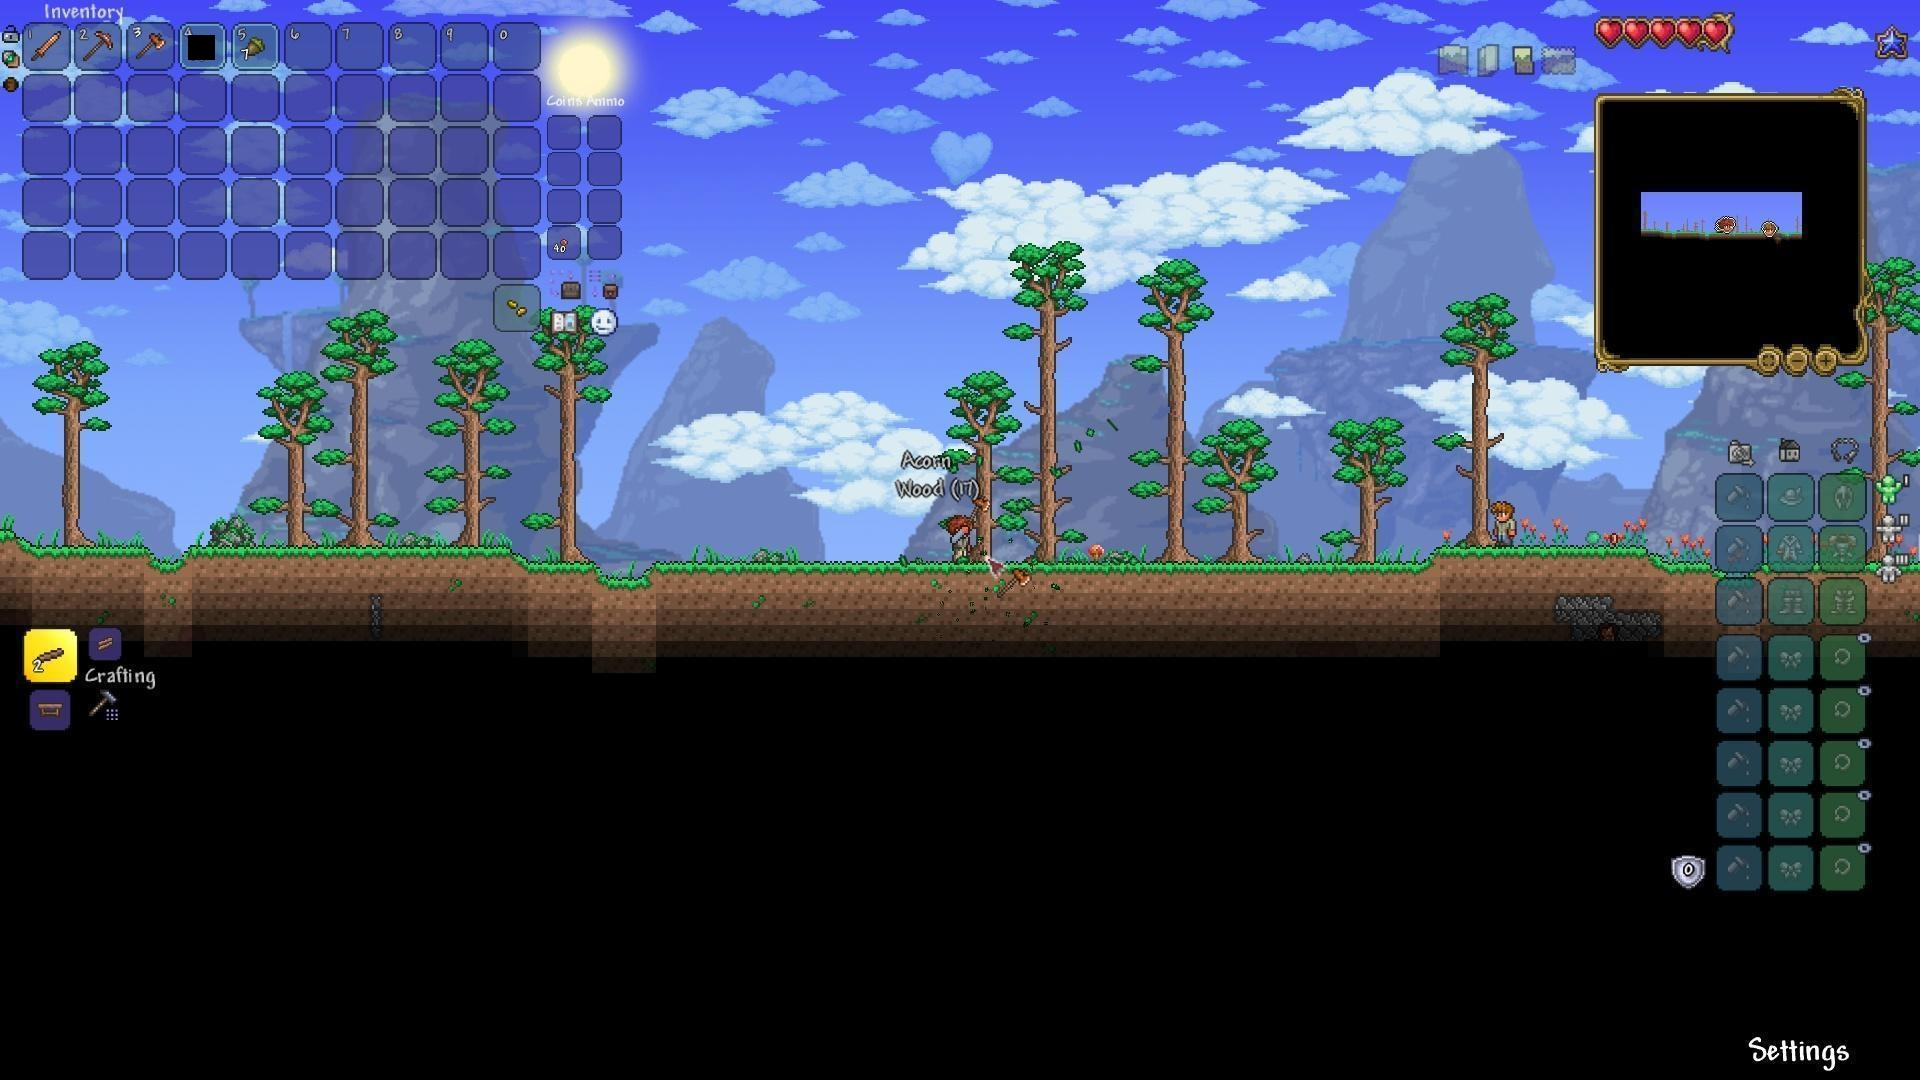wood: (92, 632, 119, 655)
workbench: (32, 699, 69, 724)
